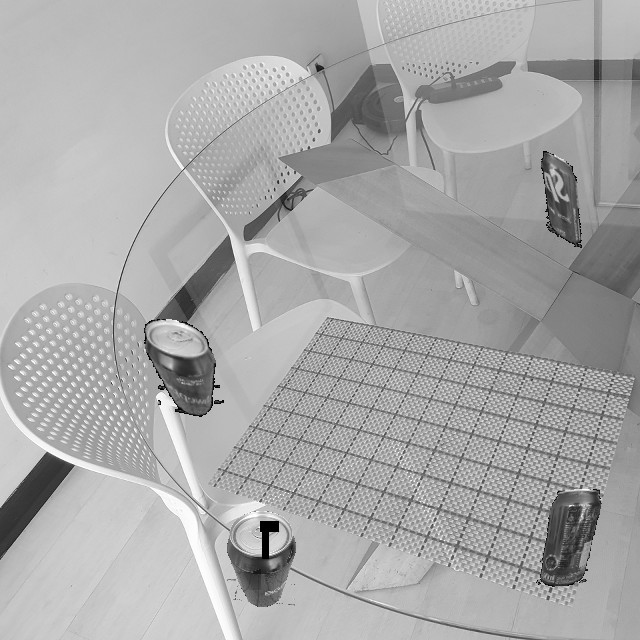pepsi: (536, 489, 604, 587)
schweppes: (140, 319, 224, 423), (227, 511, 296, 607)
sprite: (518, 148, 604, 249)
